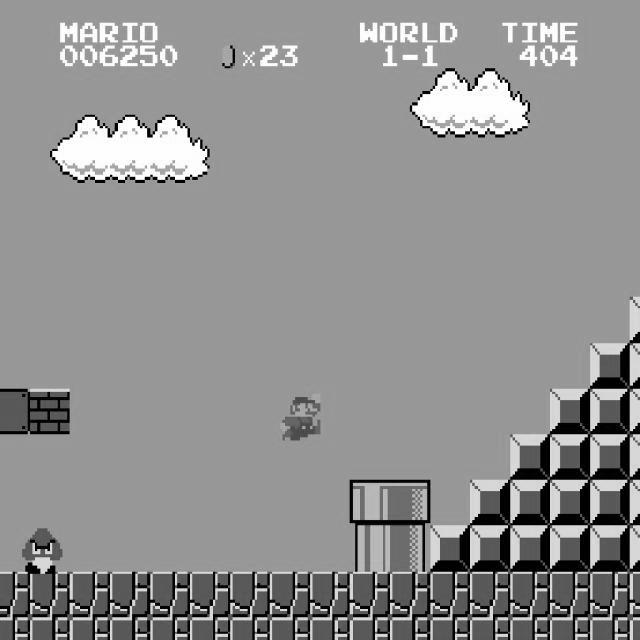1- brick_block: (30, 388, 70, 434)
11- little_mario: (277, 392, 320, 439)
14- pipe: (350, 526, 390, 572), (390, 526, 430, 572)
15- pipe_head: (350, 480, 390, 526), (390, 480, 430, 526)
17- undestructible_block: (30, 572, 70, 618), (70, 572, 110, 618), (110, 572, 150, 618), (150, 572, 190, 618), (190, 572, 230, 618), (230, 572, 270, 618), (270, 572, 310, 618), (310, 572, 350, 618), (350, 572, 390, 618), (390, 572, 430, 618), (430, 572, 470, 618), (470, 572, 510, 618), (510, 572, 550, 618), (550, 572, 590, 618), (590, 572, 630, 618), (0, 572, 30, 618), (30, 617, 70, 640), (70, 617, 110, 640), (110, 617, 150, 640), (150, 617, 190, 640), (190, 617, 230, 640), (230, 617, 270, 640), (270, 617, 310, 640), (310, 617, 350, 640), (350, 617, 390, 640), (390, 617, 430, 640), (430, 617, 470, 640), (470, 617, 510, 640), (510, 617, 550, 640), (550, 617, 590, 640), (590, 617, 630, 640), (0, 617, 30, 640), (629, 571, 640, 617), (629, 617, 640, 639)
3- empty_block: (0, 388, 30, 434)
8- goomba: (19, 526, 62, 574)
9- hard_block: (430, 526, 470, 572), (470, 480, 510, 526), (470, 526, 510, 572), (510, 434, 550, 480), (510, 480, 550, 526), (510, 526, 550, 572), (550, 388, 590, 434), (550, 434, 590, 480), (550, 480, 590, 526), (550, 526, 590, 572), (590, 388, 630, 434), (590, 434, 630, 480), (590, 480, 630, 526), (590, 526, 630, 572), (590, 343, 630, 388), (629, 342, 640, 388), (629, 388, 640, 434), (629, 525, 640, 571), (629, 297, 640, 342), (629, 434, 640, 479), (629, 480, 640, 525)
